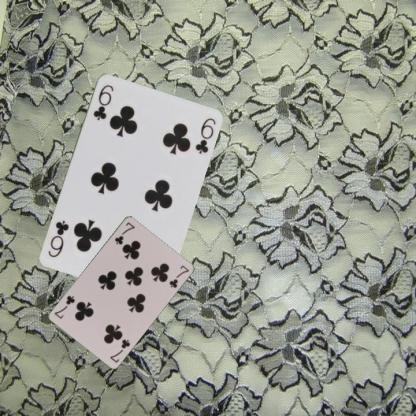6c: (90, 82, 115, 122)
7c: (112, 219, 136, 246), (108, 336, 131, 364)
